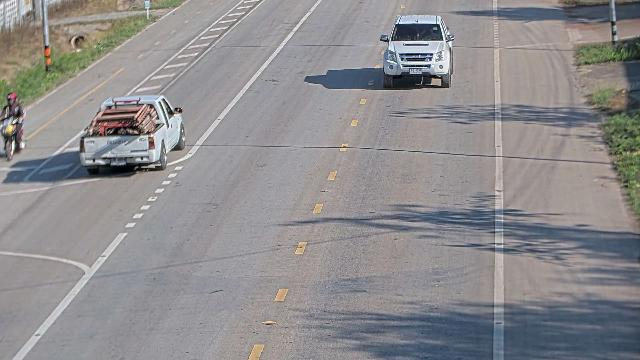pickup-truck: (78, 94, 186, 174), (379, 14, 455, 89)
